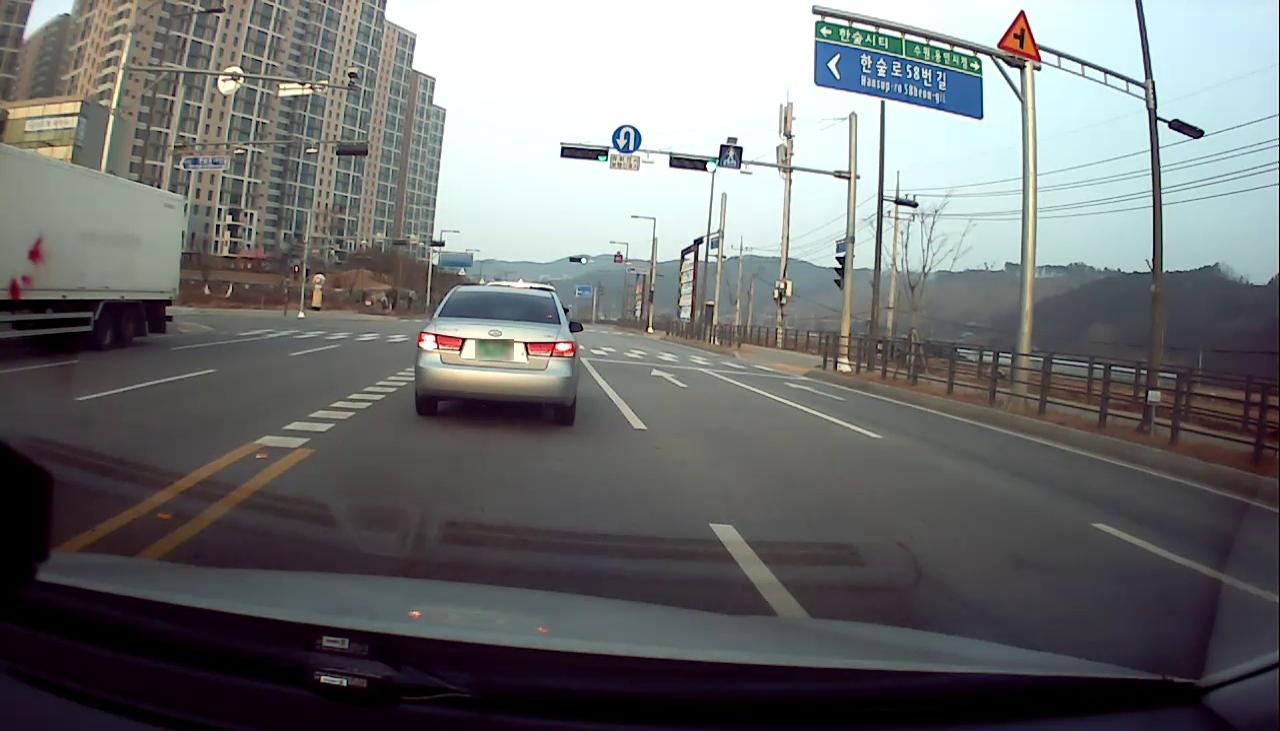Green Light: (704, 158, 717, 173), (596, 148, 608, 161), (580, 257, 588, 265)
